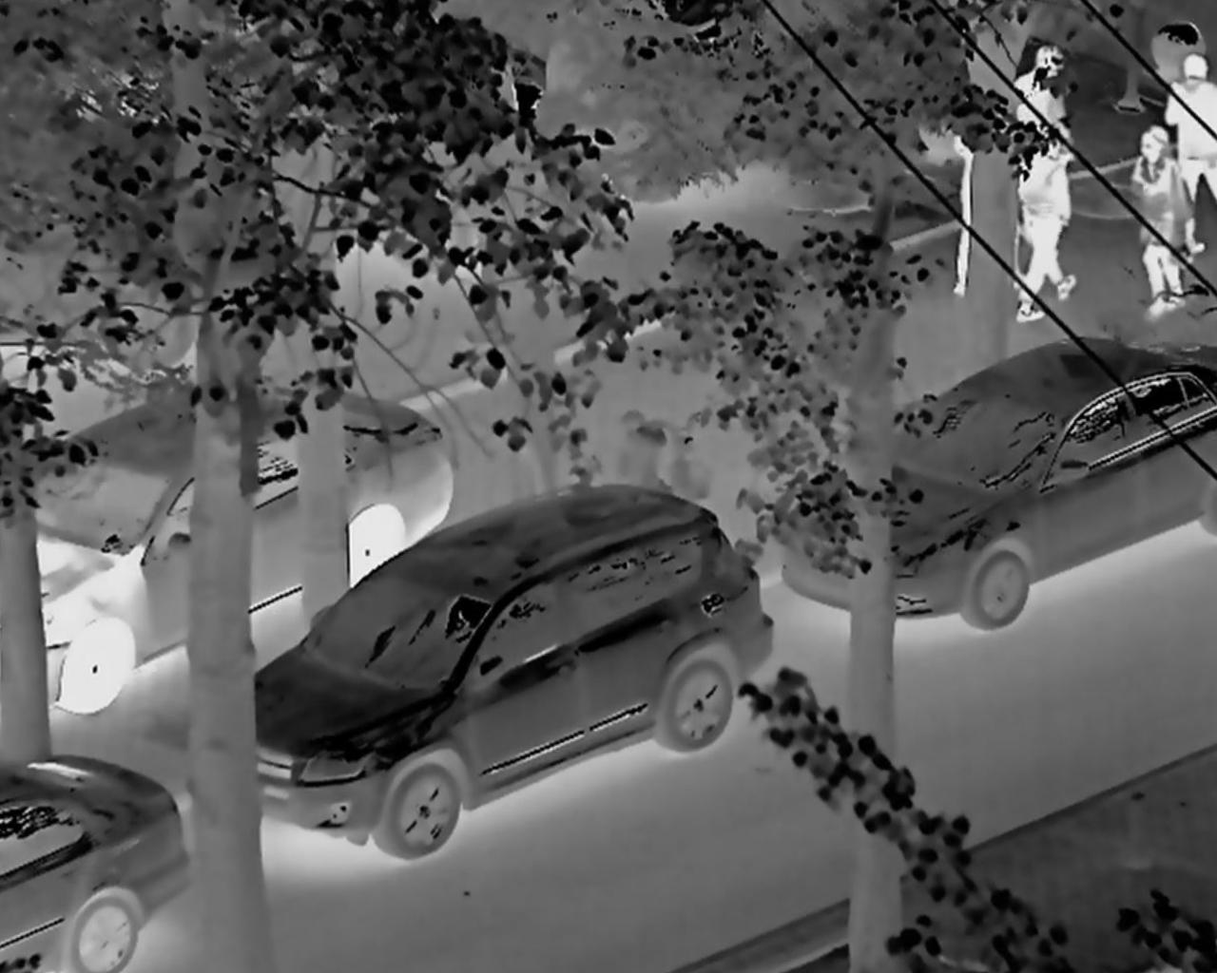person: (1094, 111, 1188, 311), (1155, 34, 1217, 256), (1023, 114, 1080, 319), (1013, 30, 1078, 155)
